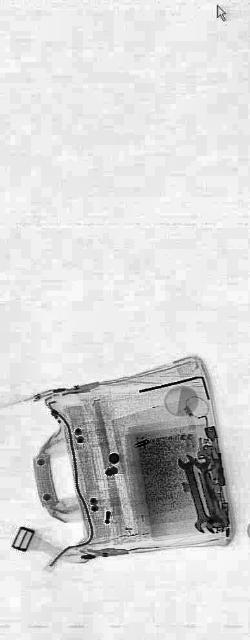Wrench: (176, 442, 212, 542), (192, 442, 225, 544)
